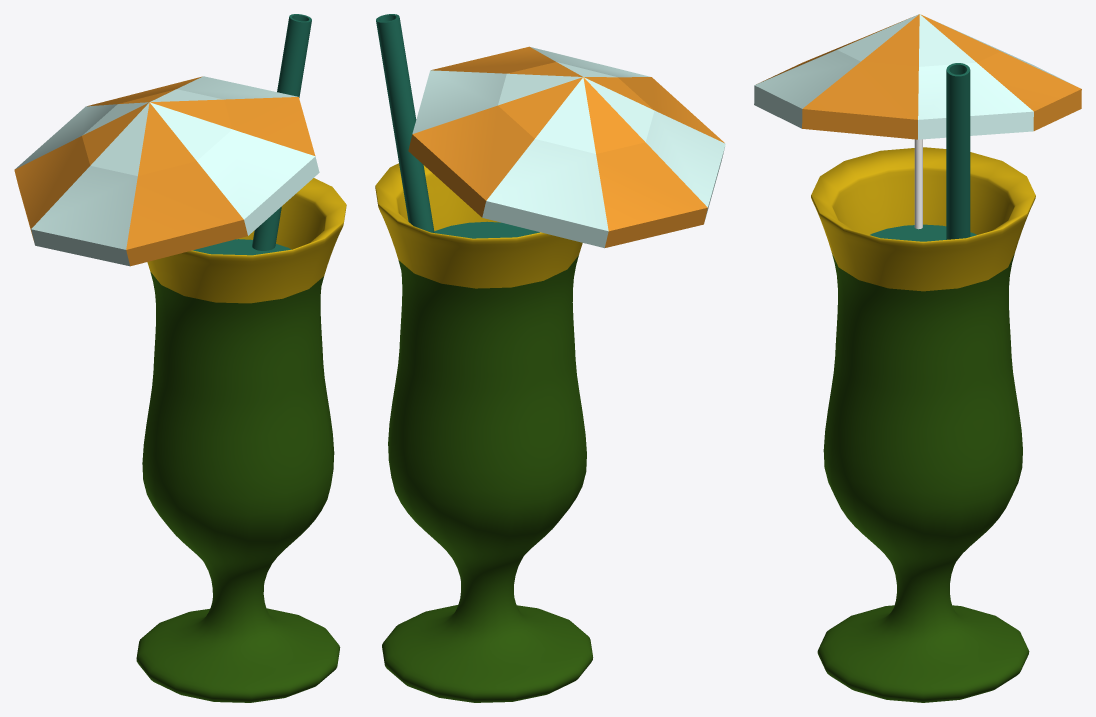
Rendered from Coctail_whight_4_glass.FBX.
3 views of the same model, side by side, from view 1: azimuth 30°, elevation 25°; view 2: azimuth 150°, elevation 25°; view 3: azimuth 270°, elevation 25° (orthographic). The views are drawn at different scales.
Visible parts, largest first — view 1: Line001, Cone, Tube001, Cylinder001; view 2: Line001, Cone, Tube001, Cylinder001; view 3: Line001, Cone, Tube001, Cylinder001 (×2).
Boxes of the visible parts, <box> form: Line001: <box>136,178,346,702</box>; Cone: <box>14,76,319,266</box>; Tube001: <box>252,14,311,250</box>; Cylinder001: <box>193,239,291,255</box>; Line001: <box>375,163,593,702</box>; Cone: <box>408,46,725,248</box>; Tube001: <box>376,14,434,232</box>; Cylinder001: <box>434,221,539,238</box>; Line001: <box>811,147,1035,702</box>; Cone: <box>754,14,1081,139</box>; Tube001: <box>946,63,970,239</box>; Cylinder001 (×2): <box>870,139,976,241</box>.
Size of the model in its own units: 57.23 by 112 by 51.78.
